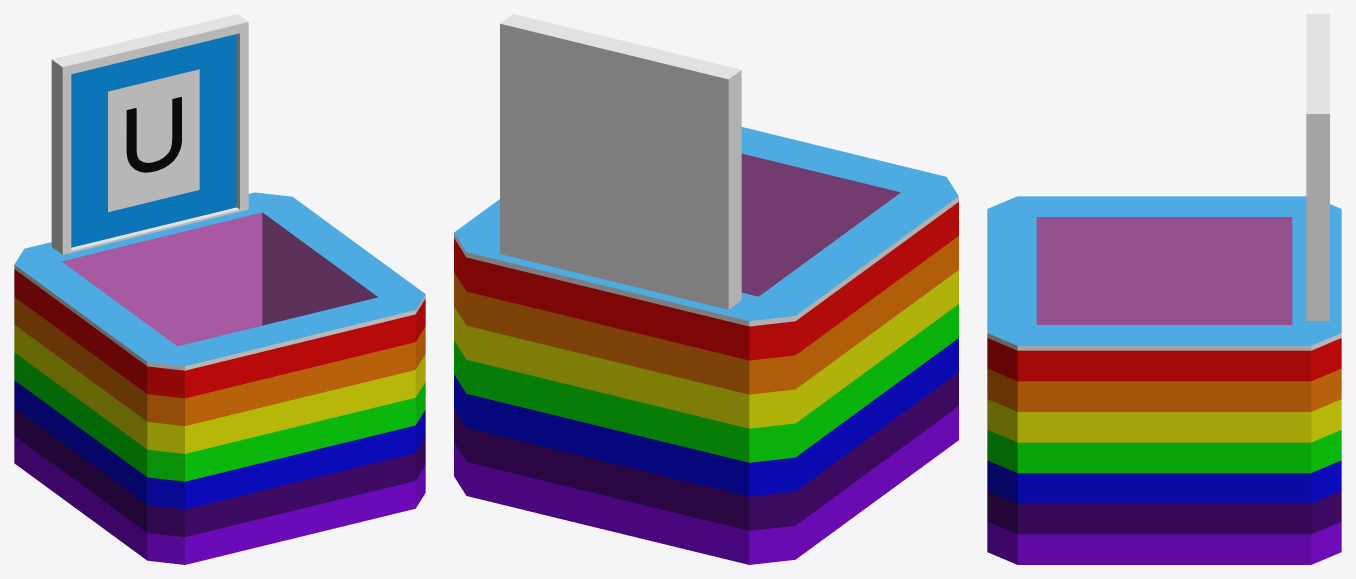
3 views of the same model, side by side, from view 1: azimuth 30°, elevation 25°; view 2: azimuth 150°, elevation 25°; view 3: azimuth 270°, elevation 25° (orthographic). The views are drawn at different scales.
Parts seen in each view (by area): view 1: Cube.001, Text; view 2: Cube.001; view 3: Cube.001.
Boxes of the visible parts, x1,y1,x2,y2 form: Cube.001: (14, 14, 425, 564); Text: (126, 97, 181, 172); Cube.001: (454, 14, 958, 564); Cube.001: (987, 14, 1341, 564).
Bounding box in the file's own units: 383 × 508 × 383.
